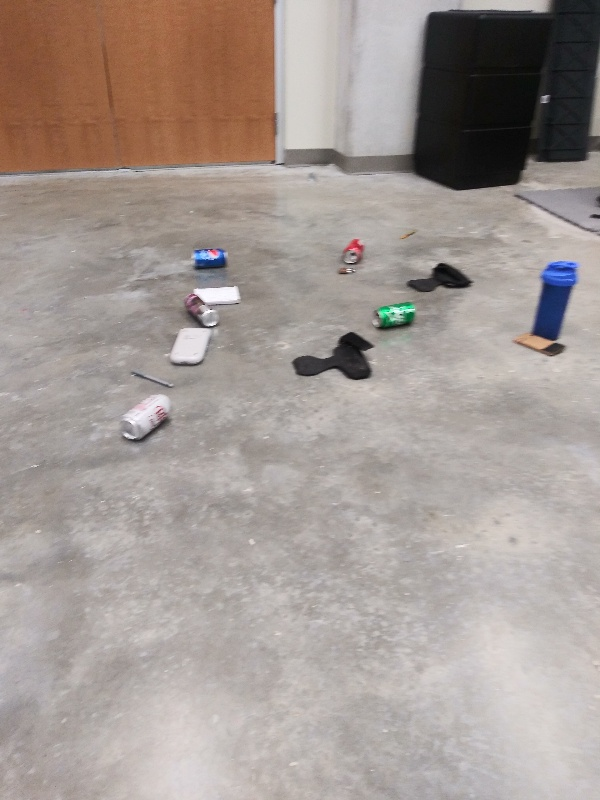can: (116, 391, 178, 445), (179, 292, 225, 328), (366, 301, 423, 330), (184, 243, 237, 274), (337, 235, 371, 267)
